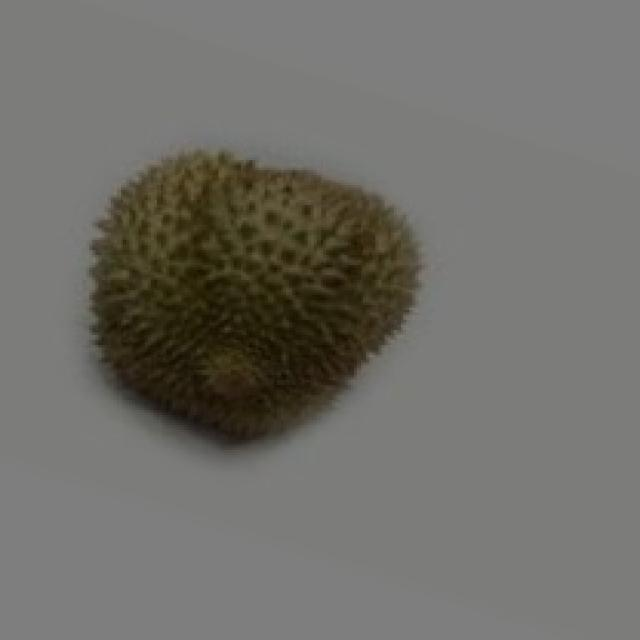fruit: (46, 118, 459, 480)
